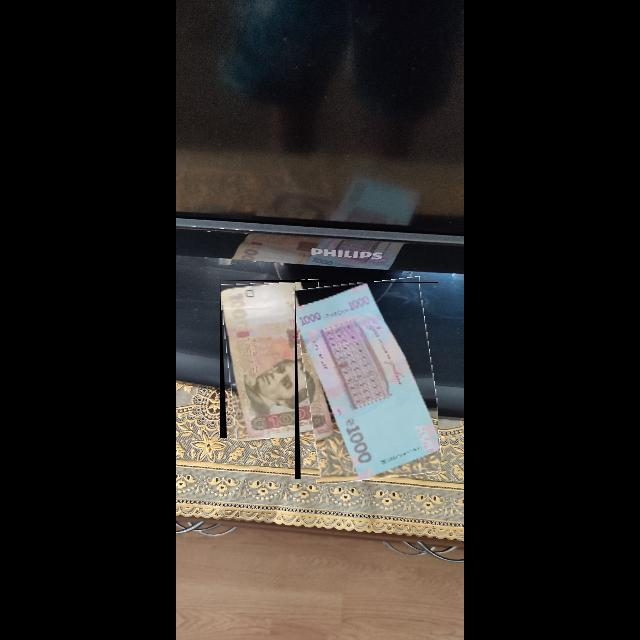1000uah: (296, 283, 439, 480)
100uah: (221, 283, 328, 439)
